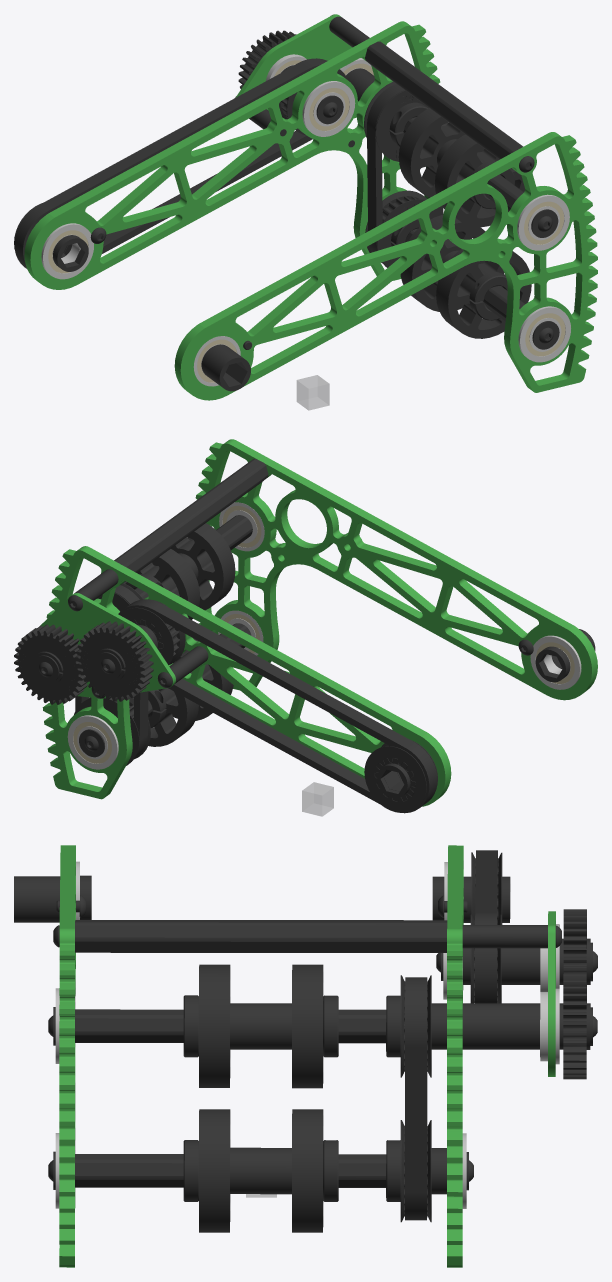
3 views of the same model, one above another, from view 1: azimuth 30°, elevation 25°; view 2: azimuth 150°, elevation 25°; view 3: azimuth 270°, elevation 25° (orthographic). The views are drawn at different scales.
Parts seen in each view (by area): view 1: Hood Plate (×2), 2" Thrifty Squish Wheel (45A, 1" Wide, 1/2" Hex Bore) (×4), 1/2" Rounded Hex (13.75mm) ID Bearing (1.125" OD, 0.313" WD, (×5), 90T HTD Belt, 6 in. Rounded Hex Shaft, 24t Custom HTD 5mm Pulley (0.375" Wide, 1/2" Hex Bore w/ TTB (×2), Direction Swap Plate, 50T HTD Belt, #10-32 x 0.25" L Shaft End Screw (Steel, Black Oxide) (×3), 1/2" Hex Clamping Shaft Collar (×2), 1/2" Hex Shaft Spacer (1/2" L, 3/4" OD, Acetal), Origin Cube (+5 smaller); view 2: Hood Plate (×2), 90T HTD Belt, 32t Steel Spur Gear (20 DP, 1/2" Hex Bore) (×2), 2" Thrifty Squish Wheel (45A, 1" Wide, 1/2" Hex Bore) (×4), 1/2" Rounded Hex (13.75mm) ID Bearing (1.125" OD, 0.313" WD, (×4), 6 in. Rounded Hex Shaft, 22t Custom HTD 5mm Pulley (0.375" Wide, 1/2" Hex Bore w/ TTB (×2), Direction Swap Plate, #10-32 x 0.25" L Shaft End Screw (Steel, Black Oxide) (×3), #10 Aluminum Spacer (1-3/8" L, 3/8" OD) (×2), 1/2" Hex Shaft Spacer (1/8" L, 3/4" OD, Acetal) (×2), 50T HTD Belt (+4 smaller); view 3: 2" Thrifty Squish Wheel (45A, 1" Wide, 1/2" Hex Bore) (×4), Hood Plate (×2), 6 in. Rounded Hex Shaft, 1/2" Hex Shaft Spacer (1" L, 3/4" OD, Acetal) (×3), 1/2" Hex Clamping Shaft Collar (×6), 50T HTD Belt, 1/2" Rounded Hex (8.623" L, 13.75mm OD), 1/2" Rounded Hex (6.625" L, 13.75mm OD), 32t Steel Spur Gear (20 DP, 1/2" Hex Bore) (×2), 1/2" Hex Shaft Spacer (1/2" L, 3/4" OD, Acetal) (×3), 90T HTD Belt, 1/2" Hex Shaft Spacer (1/4" L, 3/4" OD, Acetal) (×3) (+5 smaller).
Part boxes in pixels (x1,y1,x2,y2): Hood Plate (×2): (24, 21, 597, 400); 2" Thrifty Squish Wheel (45A, 1" Wide, 1/2" Hex Bore) (×4): (398, 108, 531, 338); 1/2" Rounded Hex (13.75mm) ID Bearing (1.125" OD, 0.313" WD, (×5): (41, 81, 570, 386); 90T HTD Belt: (14, 58, 348, 268); 6 in. Rounded Hex Shaft: (365, 41, 523, 171); 24t Custom HTD 5mm Pulley (0.375" Wide, 1/2" Hex Bore w/ TTB (×2): (364, 81, 443, 267); Direction Swap Plate: (235, 14, 361, 118); 50T HTD Belt: (367, 84, 443, 252); #10-32 x 0.25" L Shaft End Screw (Steel, Black Oxide) (×3): (316, 95, 559, 349); 1/2" Hex Clamping Shaft Collar (×2): (389, 102, 507, 320); 1/2" Hex Shaft Spacer (1/2" L, 3/4" OD, Acetal): (207, 349, 250, 391); Origin Cube: (297, 375, 329, 410); Hood Plate (×2): (42, 439, 597, 806); 90T HTD Belt: (118, 599, 437, 813); 32t Steel Spur Gear (20 DP, 1/2" Hex Bore) (×2): (14, 621, 153, 704); 2" Thrifty Squish Wheel (45A, 1" Wide, 1/2" Hex Bore) (×4): (124, 523, 235, 746); 1/2" Rounded Hex (13.75mm) ID Bearing (1.125" OD, 0.313" WD, (×4): (67, 502, 581, 769); 6 in. Rounded Hex Shaft: (114, 458, 268, 584); 22t Custom HTD 5mm Pulley (0.375" Wide, 1/2" Hex Bore w/ TTB (×2): (119, 599, 437, 812); Direction Swap Plate: (40, 593, 175, 698); #10-32 x 0.25" L Shaft End Screw (Steel, Black Oxide) (×3): (33, 652, 121, 757); #10 Aluminum Spacer (1-3/8" L, 3/8" OD) (×2): (74, 569, 208, 684); 1/2" Hex Shaft Spacer (1/8" L, 3/4" OD, Acetal) (×2): (377, 647, 568, 798); 50T HTD Belt: (75, 585, 148, 757); 2" Thrifty Squish Wheel (45A, 1" Wide, 1/2" Hex Bore) (×4): (199, 964, 323, 1232); Hood Plate (×2): (59, 845, 463, 1267); 6 in. Rounded Hex Shaft: (75, 920, 447, 952); 1/2" Hex Shaft Spacer (1" L, 3/4" OD, Acetal) (×3): (230, 1003, 540, 1194); 1/2" Hex Clamping Shaft Collar (×6): (183, 995, 400, 1201); 50T HTD Belt: (405, 977, 427, 1220); 1/2" Rounded Hex (8.623" L, 13.75mm OD): (75, 1009, 386, 1043); 1/2" Rounded Hex (6.625" L, 13.75mm OD): (75, 1154, 386, 1187); 32t Steel Spur Gear (20 DP, 1/2" Hex Bore) (×2): (559, 909, 590, 1079); 1/2" Hex Shaft Spacer (1/2" L, 3/4" OD, Acetal) (×3): (14, 876, 540, 1049); 90T HTD Belt: (475, 850, 497, 1003); 1/2" Hex Shaft Spacer (1/4" L, 3/4" OD, Acetal) (×3): (45, 876, 446, 1194).
Size of the model in its own units: 0.2537 by 0.1652 by 0.2392.
